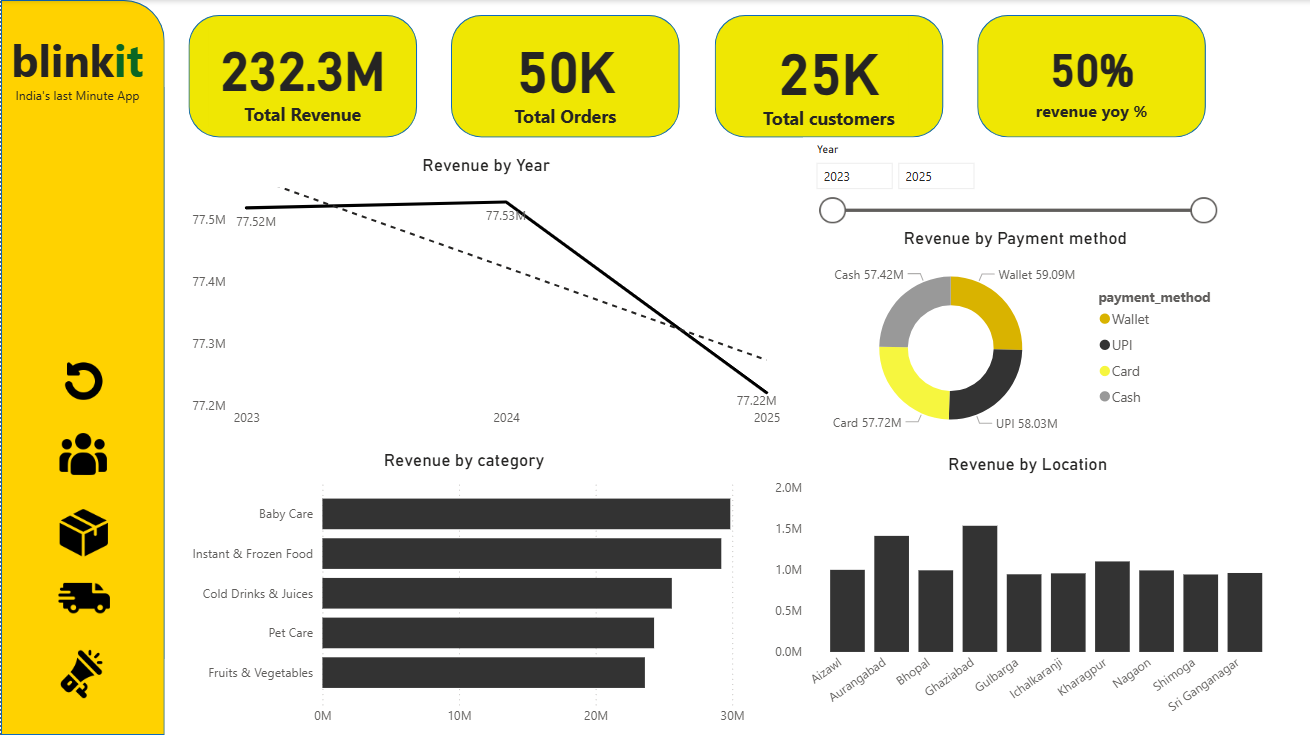

Layout of this report page (visuals, bound fields, positions):
{"tool":"powerbi","page":{"name":"sales overview","canvas":[1280,720],"ordinal":1},"visuals":[{"type":"shape","box":[1119.5,24.4,135.8,94],"z":0},{"type":"shape","box":[405.7,7,222.9,120.1],"z":1000},{"type":"shape","box":[0,0,160.2,719.1],"z":2000},{"type":"textbox","box":[0,24.7,149.4,76.6],"z":3000},{"type":"shape","box":[163.7,8.7,224.6,120.1],"z":4000},{"type":"card","fields":{"Values":[" Measure table.Total Revenue"]},"box":[184.6,20.9,184.6,97.5],"z":5000},{"type":"card","fields":{"Values":[" Measure table.Total Orders"]},"box":[449.2,12.2,135.8,109.7],"z":6000},{"type":"shape","box":[640.7,10.4,222.9,116.7],"z":7000},{"type":"card","fields":{"Values":[" Measure table.Total customers"]},"box":[679,13.9,155,107.9],"z":8000},{"type":"shape","box":[875.7,10.4,222.9,116.7],"z":9000},{"type":"card","fields":{"Values":["Measure table.revenue yoy %"]},"box":[914.1,13.9,148,109.7],"z":10000},{"type":"lineChart","title":"Revenue by Year","fields":{"Y":[" Measure table.Total Revenue"],"Category":["Calendar.Date.Variation.Date Hierarchy.Year","Calendar.Date.Variation.Date Hierarchy.Quarter","Calendar.Date.Variation.Date Hierarchy.Month"]},"box":[160.2,130.6,585,301.2],"z":11000},{"type":"clusteredBarChart","title":"Revenue by category","fields":{"Y":[" Measure table.Total Revenue"],"Category":["Master_table.category"]},"box":[160.2,431.8,585,287.3],"z":12000},{"type":"donutChart","title":"Revenue by Payment method","fields":{"Y":[" Measure table.Total Revenue"],"Category":["Master_table.payment_method"]},"box":[752.7,131.6,526.4,254],"z":13000},{"type":"barChart","fields":{"Category":["Customer.area"],"Y":["Measure table.Total Revenue"]},"box":[757.4,444,522.3,275.1],"z":14000},{"type":"image","box":[43.4,630.4,71.7,56.6],"z":15000},{"type":"image","box":[43.4,415.2,75.5,56.6],"z":16000},{"type":"image","box":[52.8,488.8,56.6,64.2],"z":17000},{"type":"image","box":[51,553,60.4,64.2],"z":18000},{"type":"image","box":[50.5,346.5,60.9,54],"z":19000},{"type":"textbox","box":[0,78.3,149.7,45.3],"z":20000},{"type":"slicer","fields":{"Values":["TopN option.option"]},"box":[780,384.8,447.5,57.5],"z":21000},{"type":"slicer","fields":{"Values":["Calendar.Year"]},"box":[1131.7,31.3,107.9,78.3],"z":22000}]}

Visuals, with their boxes in screenshot pixels (x1, y1, x2, y2), scaled from the page's 1280x720 canvas onto the 1310x736 screenshot:
shape: <bbox>1146, 25, 1285, 121</bbox>
shape: <bbox>415, 7, 643, 130</bbox>
shape: <bbox>0, 0, 164, 735</bbox>
textbox: <bbox>0, 25, 153, 104</bbox>
shape: <bbox>168, 9, 397, 132</bbox>
card -  Measure table.Total Revenue: <bbox>189, 21, 378, 121</bbox>
card -  Measure table.Total Orders: <bbox>460, 12, 599, 125</bbox>
shape: <bbox>656, 11, 884, 130</bbox>
card -  Measure table.Total customers: <bbox>695, 14, 854, 125</bbox>
shape: <bbox>896, 11, 1124, 130</bbox>
card - Measure table.revenue yoy %: <bbox>936, 14, 1087, 126</bbox>
"Revenue by Year" lineChart: <bbox>164, 134, 763, 441</bbox>
"Revenue by category" clusteredBarChart: <bbox>164, 441, 763, 735</bbox>
"Revenue by Payment method" donutChart: <bbox>770, 135, 1309, 394</bbox>
barChart - Customer.area x Measure table.Total Revenue: <bbox>775, 454, 1309, 735</bbox>
image: <bbox>44, 644, 118, 702</bbox>
image: <bbox>44, 424, 122, 482</bbox>
image: <bbox>54, 500, 112, 565</bbox>
image: <bbox>52, 565, 114, 631</bbox>
image: <bbox>52, 354, 114, 409</bbox>
textbox: <bbox>0, 80, 153, 126</bbox>
slicer - TopN option.option: <bbox>798, 393, 1256, 452</bbox>
slicer - Calendar.Year: <bbox>1158, 32, 1269, 112</bbox>
